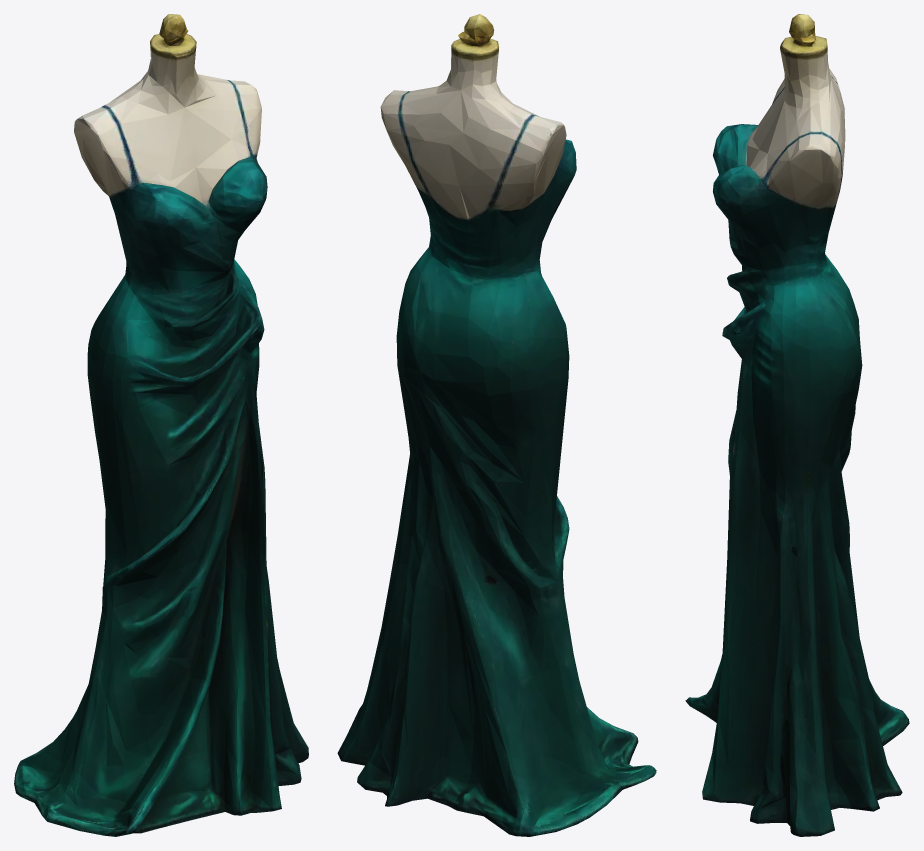
Rendered from gown_green_mannequin.glb.
The picture shows the model from 3 angles, left to right: view 1: azimuth 30°, elevation 25°; view 2: azimuth 150°, elevation 25°; view 3: azimuth 270°, elevation 25°; orthographic projection.
Parts seen in each view (by area): view 1: geometry_0; view 2: geometry_0; view 3: geometry_0.
Part boxes in pixels (x1,y1,x2,y2): geometry_0: [14, 14, 308, 836]; geometry_0: [337, 14, 656, 836]; geometry_0: [685, 14, 909, 836].
Size of the model in its own units: 0.3889 by 0.998 by 0.267.
1 material, 1 textured.
